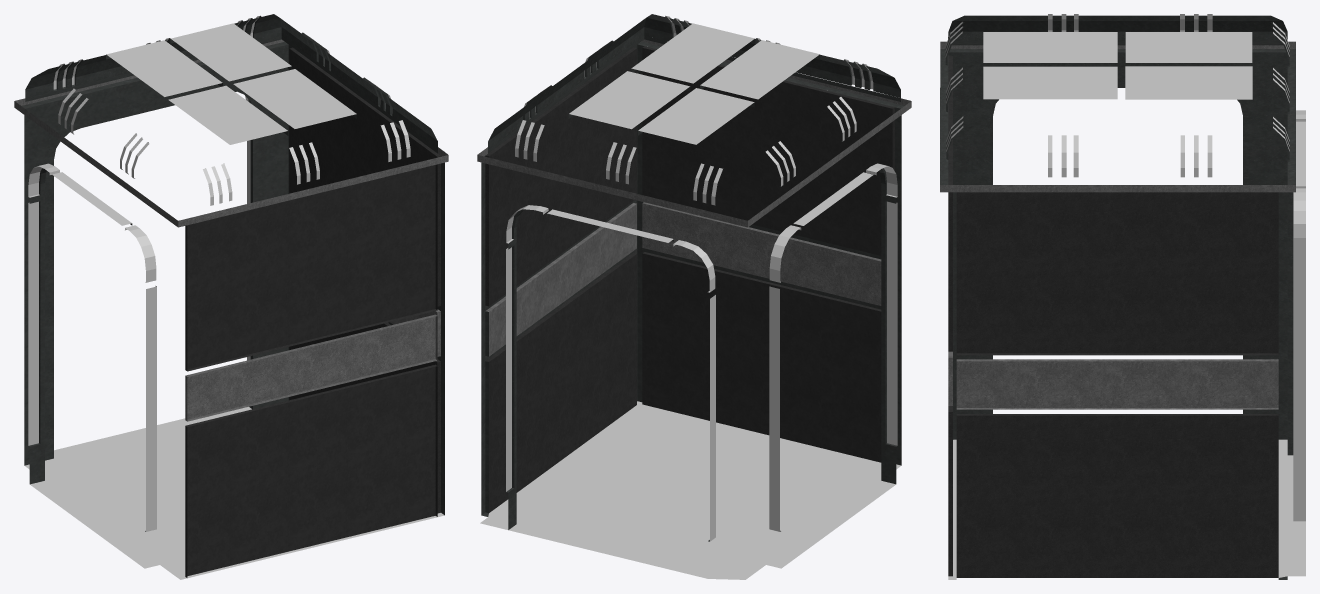
File: Corner.fbx
3 renders of one model, left to right at view 1: azimuth 30°, elevation 25°; view 2: azimuth 150°, elevation 25°; view 3: azimuth 270°, elevation 25°, orthographic. The views are drawn at different scales.
Parts seen in each view (by area): view 1: Cube.006, Cube.013, Cube.018, Cube.031, Cube.024; view 2: Cube.006, Cube.024, Cube.013, Cube.031, Cube.018; view 3: Cube.006, Cube.018, Cube.013, Cube.031, Cube.024.
Boxes of the visible parts, <box> form: Cube.006: <box>185,47,440,577</box>; Cube.013: <box>28,16,410,531</box>; Cube.018: <box>22,14,444,531</box>; Cube.031: <box>14,39,448,421</box>; Cube.024: <box>24,407,444,579</box>; Cube.006: <box>485,46,894,512</box>; Cube.024: <box>480,401,900,579</box>; Cube.013: <box>506,16,897,541</box>; Cube.031: <box>477,39,911,356</box>; Cube.018: <box>481,14,904,541</box>; Cube.006: <box>948,55,1278,577</box>; Cube.018: <box>940,15,1295,579</box>; Cube.013: <box>945,14,1305,521</box>; Cube.031: <box>940,41,1295,409</box>; Cube.024: <box>948,439,1305,579</box>.
Size of the model in its own units: 716 by 996 by 747.
